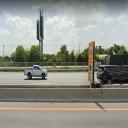speed_limit_120: (88, 44, 94, 60)
